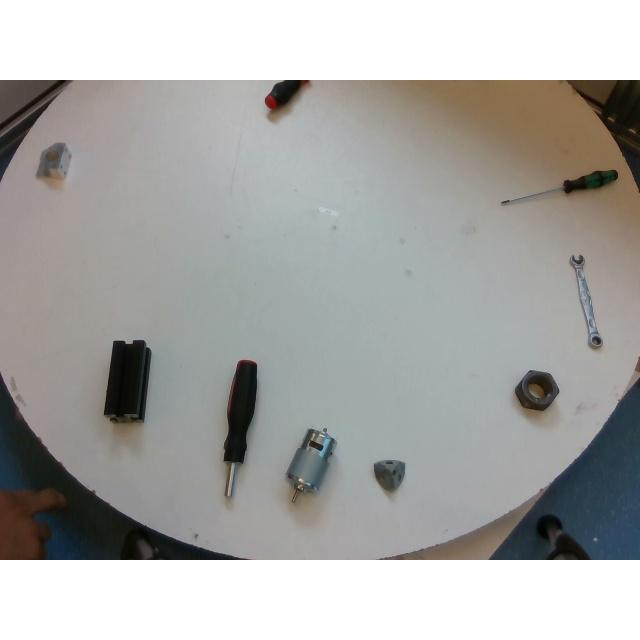M30: (514, 370, 558, 410)
Motor2: (286, 426, 336, 502)
S40_40_B: (104, 340, 150, 420)
Screwdriver: (499, 170, 616, 206)
Wrench: (570, 254, 602, 350)
